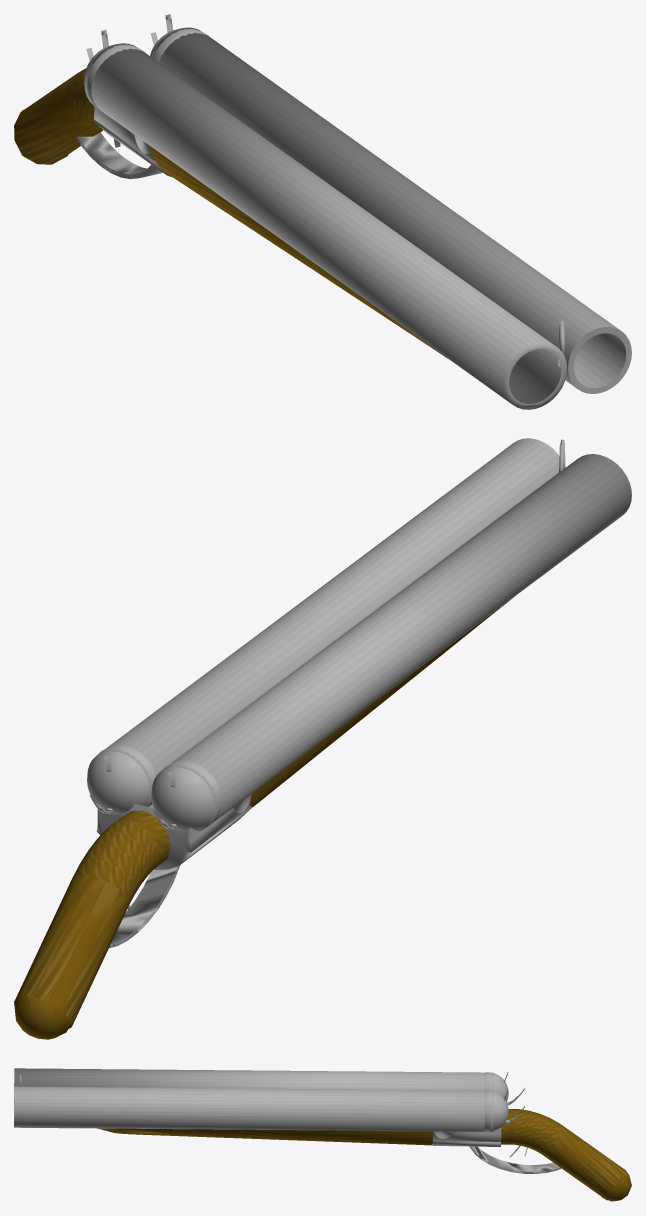
Rendered from escopeta.fbx.
3 views of the same model, one above another, from view 1: azimuth 30°, elevation 25°; view 2: azimuth 150°, elevation 25°; view 3: azimuth 270°, elevation 25° (orthographic). The views are drawn at different scales.
Parts seen in each view (by area): view 1: canons, culata_ok, guardamanos, Cylinder, recarrega; view 2: canons, culata_ok, Cylinder, recarrega, guardamanos; view 3: canons, culata_ok, guardamanos, Cylinder, recarrega.
Boxes of the visible parts, x1,y1,x2,y2 form: canons: (84,27,631,409); culata_ok: (14,68,103,164); guardamanos: (149,145,447,358); Cylinder: (76,14,172,179); recarrega: (93,106,172,177); canons: (87,438,631,831); culata_ok: (14,810,170,1039); Cylinder: (89,756,179,948); recarrega: (96,799,252,869); guardamanos: (250,597,513,806); canons: (14,1068,508,1131); culata_ok: (501,1109,631,1201); guardamanos: (98,1128,433,1145); Cylinder: (469,1072,561,1173); recarrega: (432,1127,501,1146).
Bounding box in the file's own units: 2.15 × 3.5 × 15.53.
